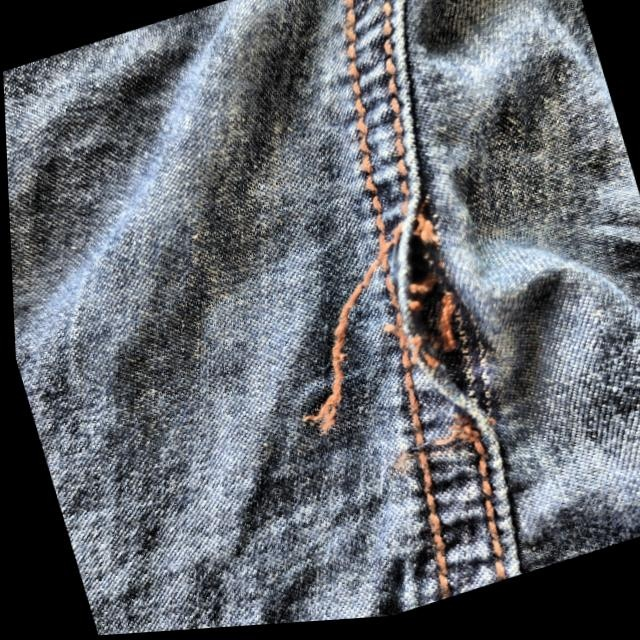seam: (345, 170, 537, 454)
